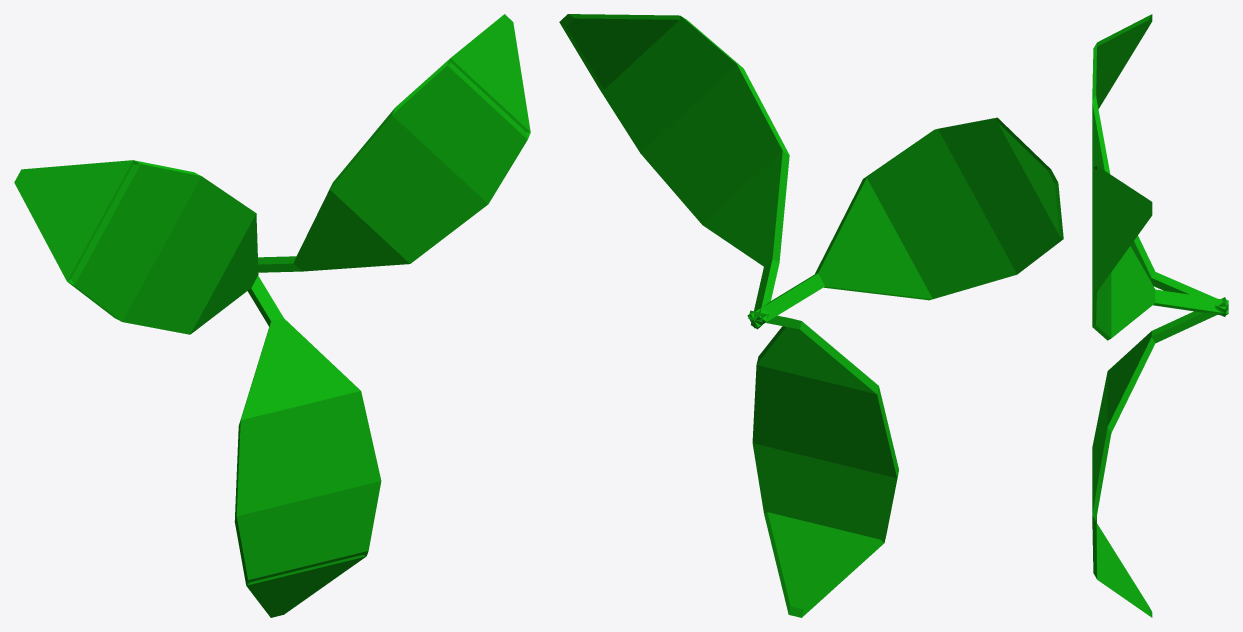
The model's file is greencrop.fbx.
The picture shows the model from 3 angles, left to right: view 1: azimuth 30°, elevation 25°; view 2: azimuth 150°, elevation 25°; view 3: azimuth 270°, elevation 25°; orthographic projection. The views are drawn at different scales.
Parts seen in each view (by area): view 1: Cube; view 2: Cube; view 3: Cube.
Boxes of the visible parts, <box> form: Cube: <box>14,14,530,617</box>; Cube: <box>559,14,1063,617</box>; Cube: <box>1092,14,1228,617</box>.
Size of the model in its own units: 214 by 224 by 53.59.
